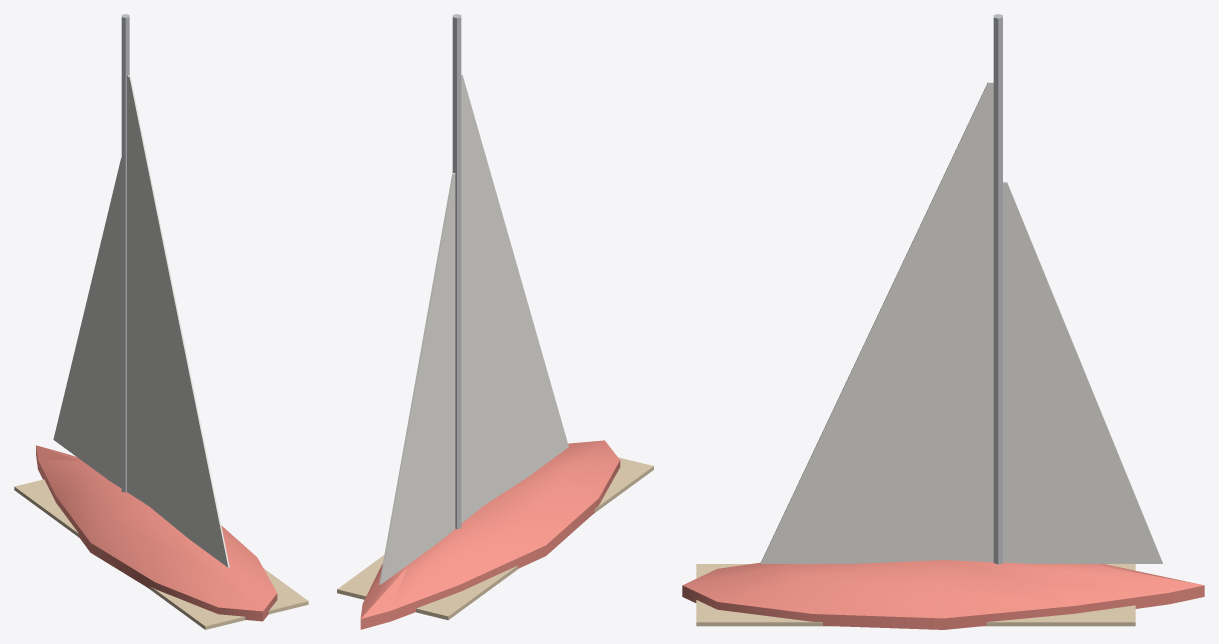
File: sailboat.glb
The picture shows the model from 3 angles, left to right: view 1: azimuth 30°, elevation 25°; view 2: azimuth 150°, elevation 25°; view 3: azimuth 270°, elevation 25°; orthographic projection. The views are drawn at different scales.
Parts seen in each view (by area): view 1: body; view 2: body; view 3: body.
Boxes of the visible parts, x1,y1,x2,y2 form: body: [14, 14, 308, 629]; body: [337, 14, 653, 629]; body: [682, 14, 1204, 629].
Bounding box in the file's own units: 1.71 × 7.01 × 5.71.
